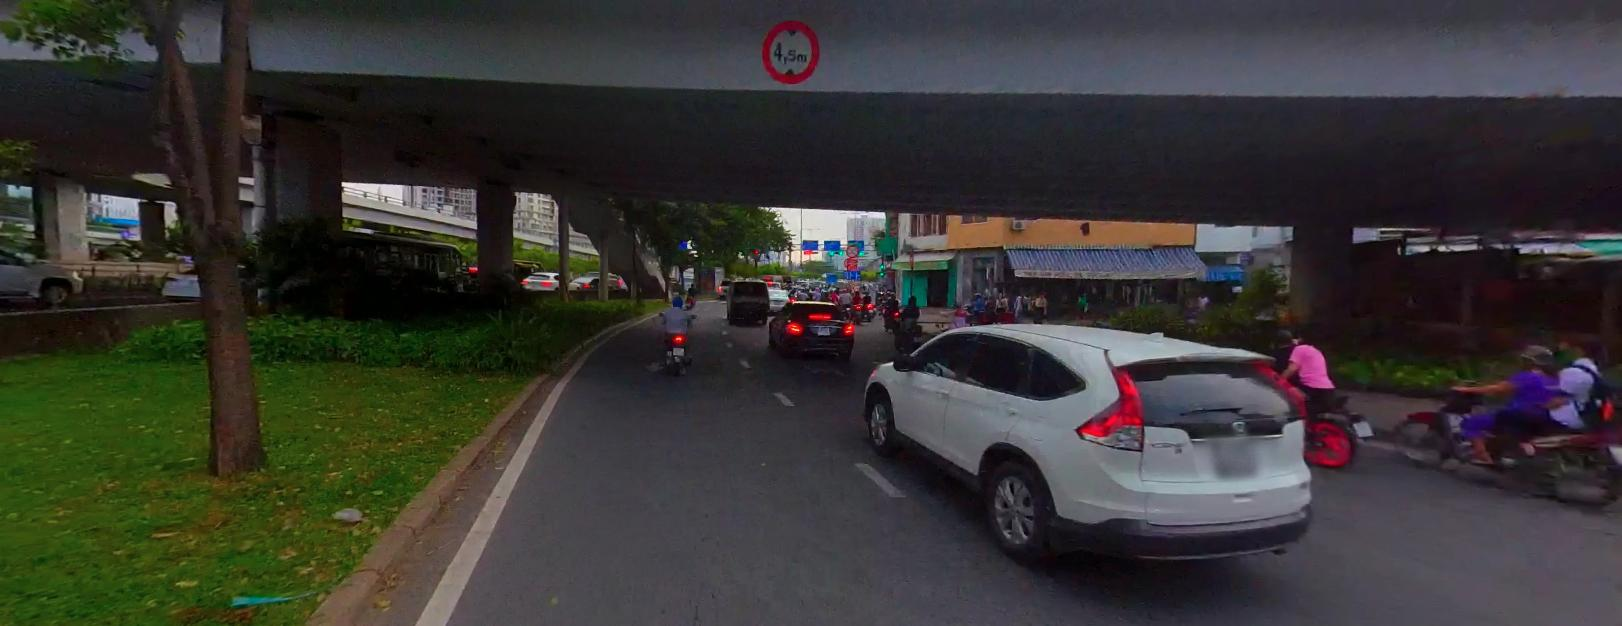Cam con lai: (761, 16, 821, 84), (845, 244, 858, 256)
